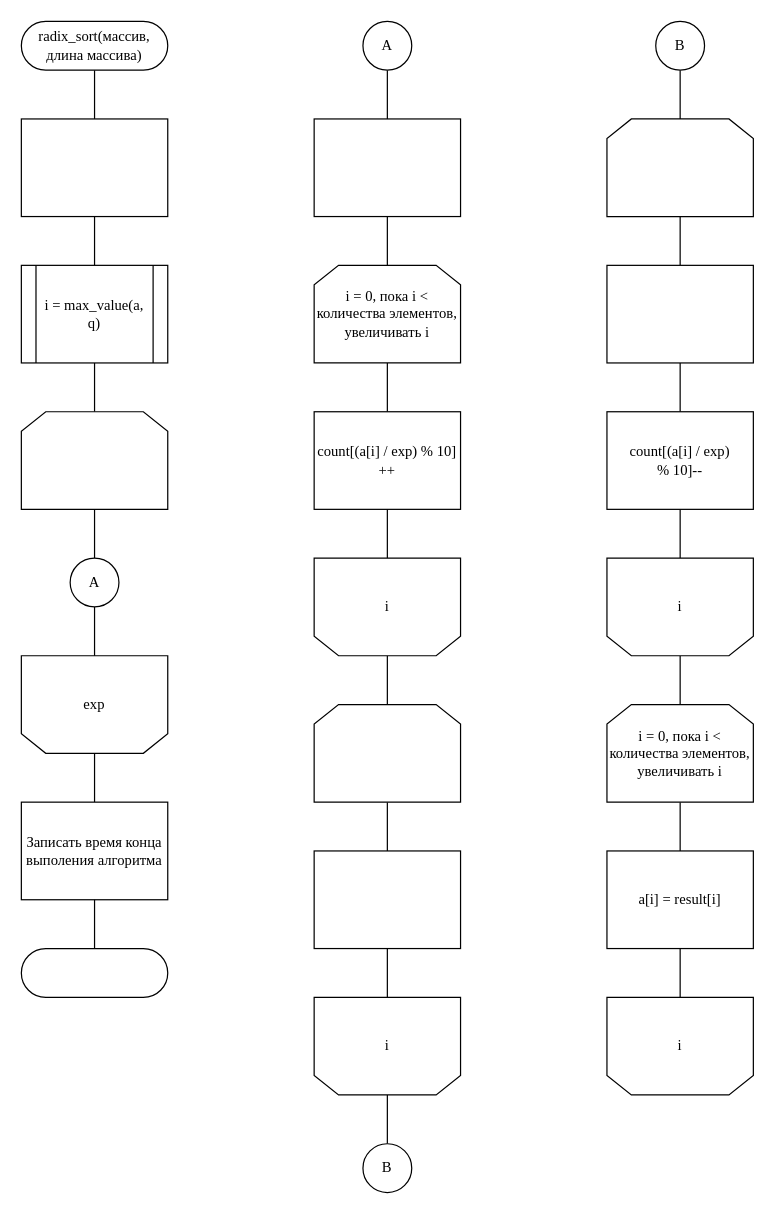
This 775x1214 diagram has some shape labels left out. The shapes that lost their labels are listed below. From the top down, each one's box as (x1, y1, x2, y2) in pixels, then its label:
(20, 118, 168, 217): Записать время начала выполения алгоритма, инициализая exp
(313, 118, 461, 217): Инициализация массива count[10] нулями, объявление массива результата
(606, 118, 753, 217): i = количество элементов, пока i >= 0, уменьшвать i
(606, 264, 753, 363): result[count[(a[i] / exp) % 10] - 1] = a[i]
(20, 411, 168, 509): exp = 1, пока i / exp > 0, exp *= 10
(313, 703, 461, 802): i = 1, пока i < 10, увеличивать i
(313, 850, 461, 949): count[i] += count[i -1]
(20, 947, 168, 997): Вернуть массив
